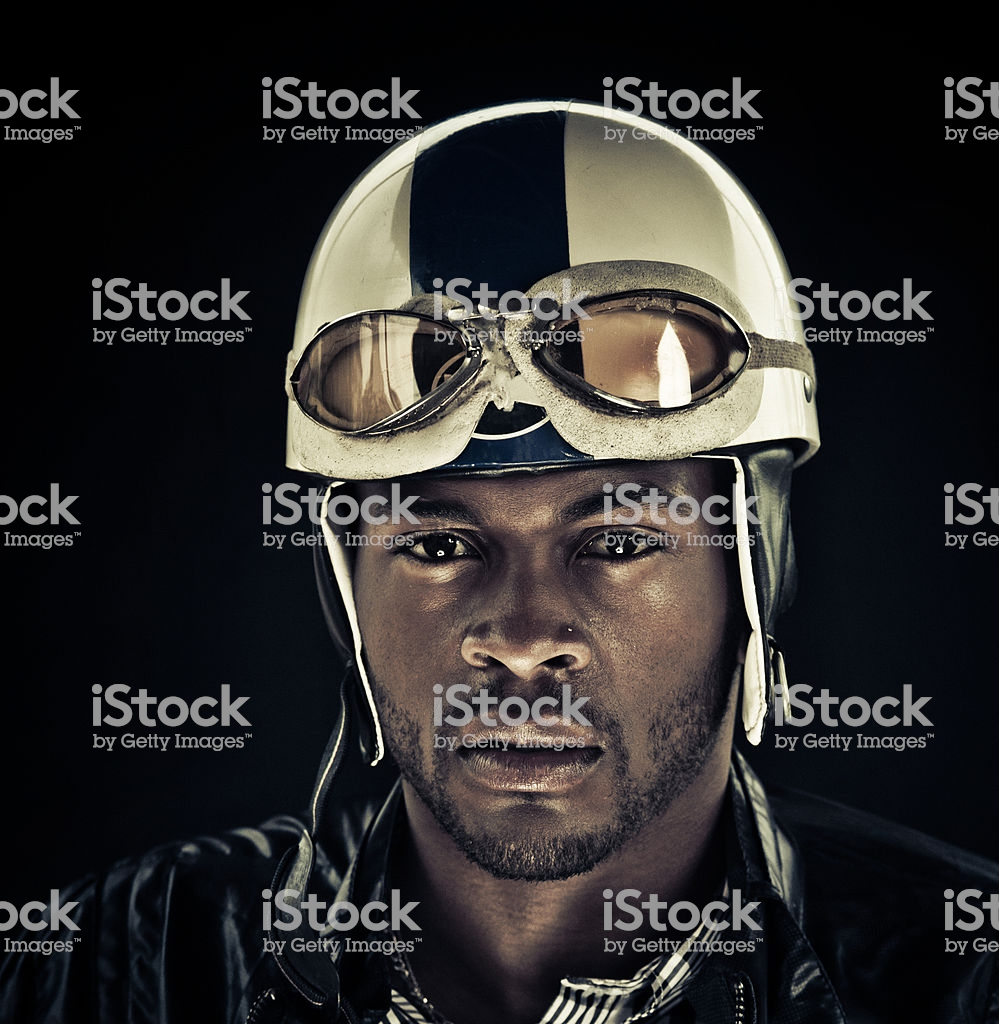helmet: (281, 104, 835, 501)
